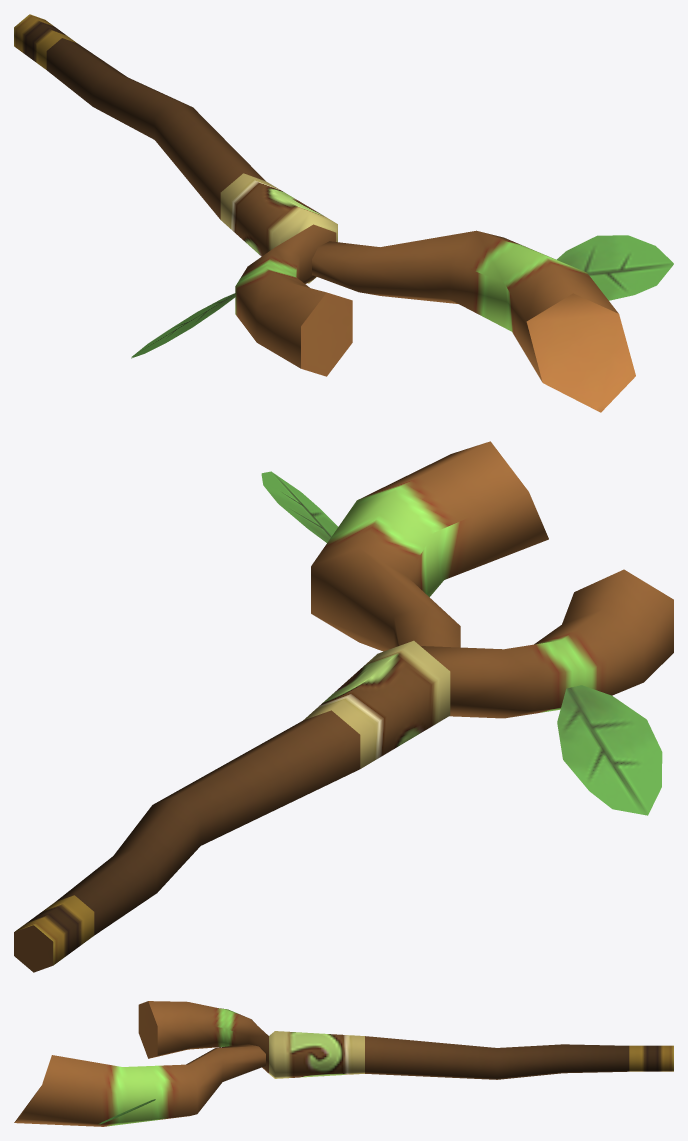
Rendered from druid_weapon.FBX.
3 views of the same model, one above another, from view 1: azimuth 30°, elevation 25°; view 2: azimuth 150°, elevation 25°; view 3: azimuth 270°, elevation 25° (orthographic). The views are drawn at different scales.
Parts seen in each view (by area): view 1: druid_weapon; view 2: druid_weapon; view 3: druid_weapon.
Part boxes in pixels (box(x1,y1,x2,y2)): druid_weapon: box(14, 14, 673, 412); druid_weapon: box(14, 441, 673, 972); druid_weapon: box(14, 1001, 673, 1126).
Bounding box in the file's own units: 73.04 × 18.59 × 144.
